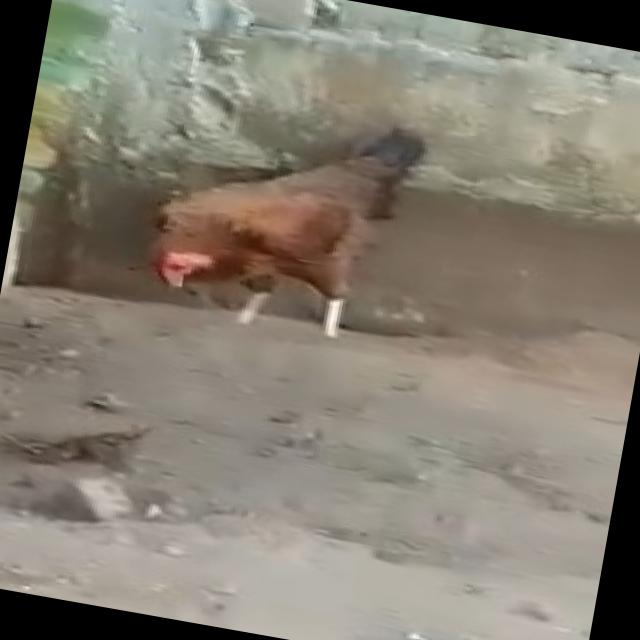stand bath: (132, 74, 458, 357)
